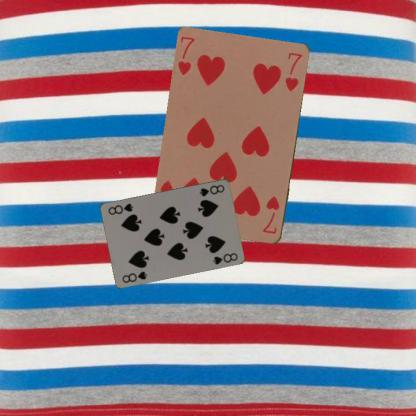7h: (176, 34, 197, 77), (260, 194, 281, 236)
8s: (197, 182, 226, 198), (120, 268, 148, 284)
